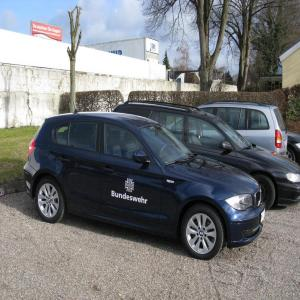Vehicle-registration-plate: (262, 208, 267, 225)
